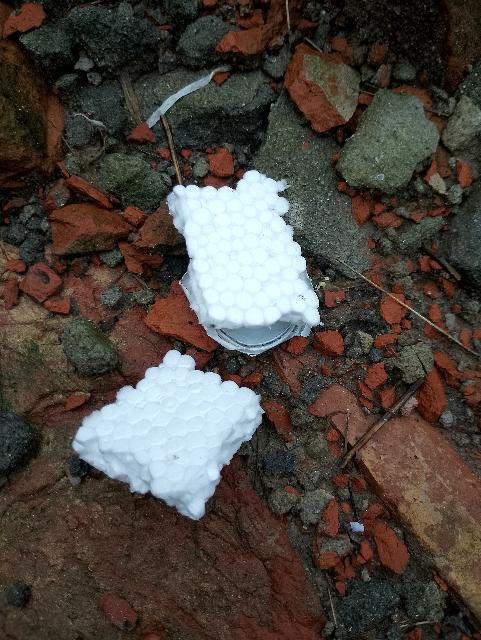cocksheet: (67, 307, 290, 530), (169, 172, 311, 351)
